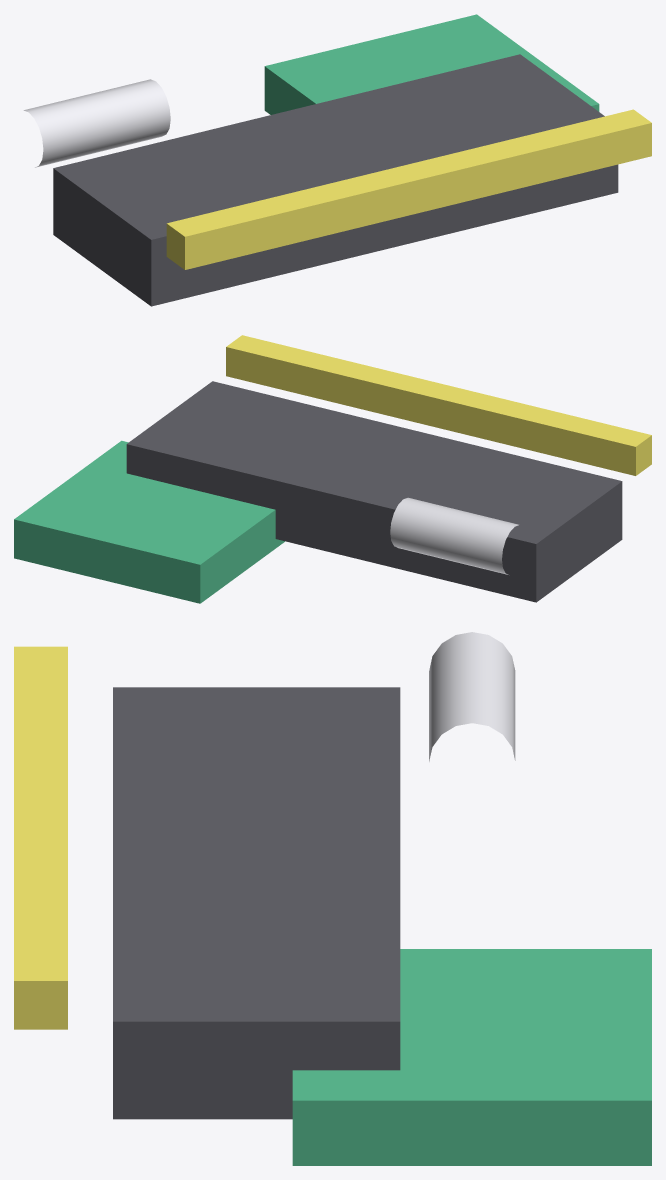
The model's file is microcontroller_8051.glb.
3 views of the same model, one above another, from view 1: azimuth 30°, elevation 25°; view 2: azimuth 150°, elevation 25°; view 3: azimuth 270°, elevation 25° (orthographic). The views are drawn at different scales.
Visible parts, largest first — view 1: DIP40MicrocontrollerChip, PortHeaderPinBus, StepperMotorDriverBase, QuartzCrystalOscillator; view 2: DIP40MicrocontrollerChip, StepperMotorDriverBase, PortHeaderPinBus, QuartzCrystalOscillator; view 3: DIP40MicrocontrollerChip, StepperMotorDriverBase, PortHeaderPinBus, QuartzCrystalOscillator.
Boxes of the visible parts, box(x1,y1,x2,y2) form: DIP40MicrocontrollerChip: box(53, 54, 618, 306); PortHeaderPinBus: box(166, 109, 651, 269); StepperMotorDriverBase: box(264, 14, 599, 114); QuartzCrystalOscillator: box(23, 79, 170, 167); DIP40MicrocontrollerChip: box(126, 381, 622, 602); StepperMotorDriverBase: box(14, 440, 284, 603); PortHeaderPinBus: box(226, 335, 651, 475); QuartzCrystalOscillator: box(390, 497, 518, 574); DIP40MicrocontrollerChip: box(113, 687, 400, 1119); StepperMotorDriverBase: box(292, 949, 651, 1165); PortHeaderPinBus: box(14, 646, 67, 1029); QuartzCrystalOscillator: box(429, 632, 515, 761).
Size of the model in its own units: 2.4 by 0.52 by 1.78.
